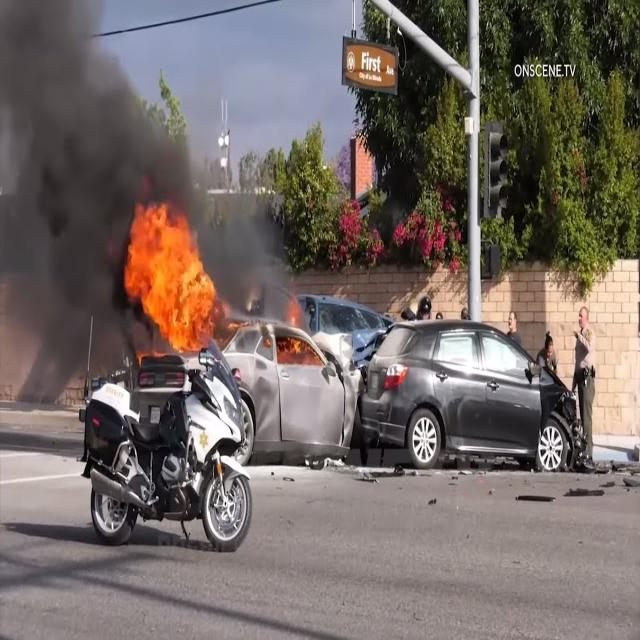fire: (138, 210, 206, 348)
smoke: (35, 49, 117, 310)
